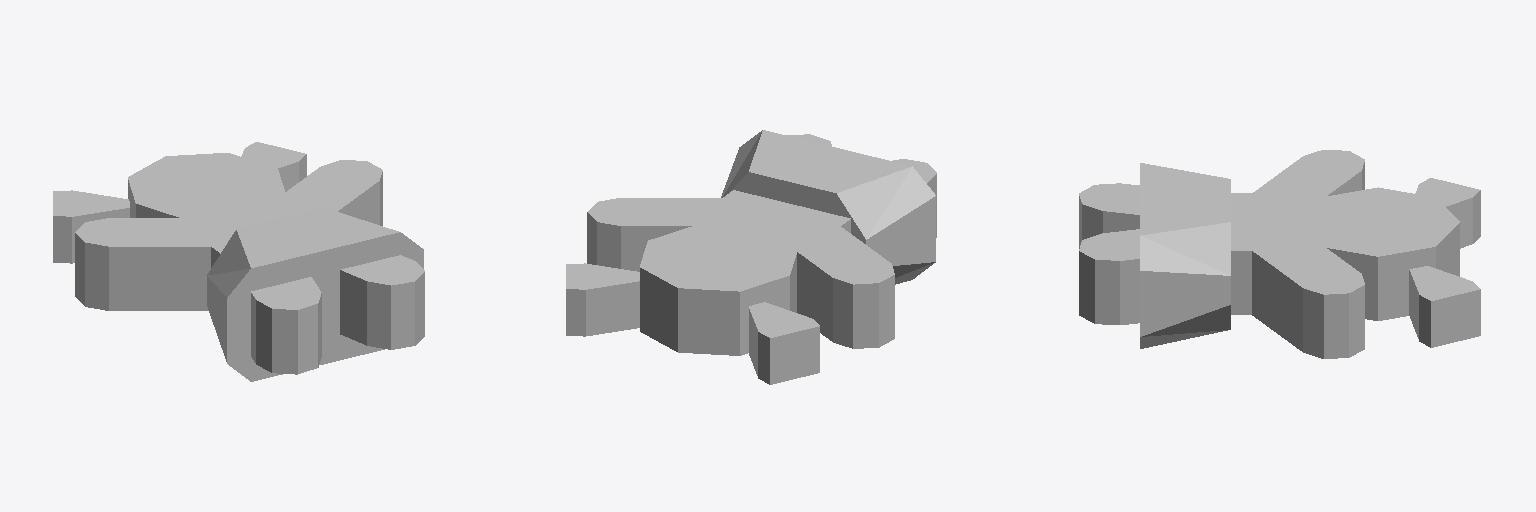
Rendered from gingerbread-woman.obj.
3 renders of one model, left to right at view 1: azimuth 30°, elevation 25°; view 2: azimuth 150°, elevation 25°; view 3: azimuth 270°, elevation 25°, orthographic.
Visible parts, largest first — view 1: gingerbread-woman; view 2: gingerbread-woman; view 3: gingerbread-woman.
Part boxes in pixels (x1,y1,x2,y2): gingerbread-woman: (53, 142, 424, 381); gingerbread-woman: (566, 130, 936, 384); gingerbread-woman: (1079, 150, 1480, 358).
Bounding box in the file's own units: 0.3393 × 0.1237 × 0.397.